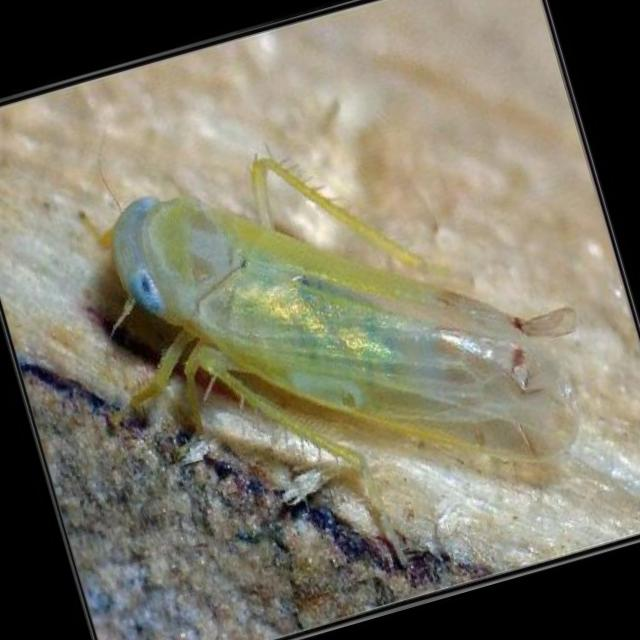green-leafhopper: (86, 89, 588, 566)
